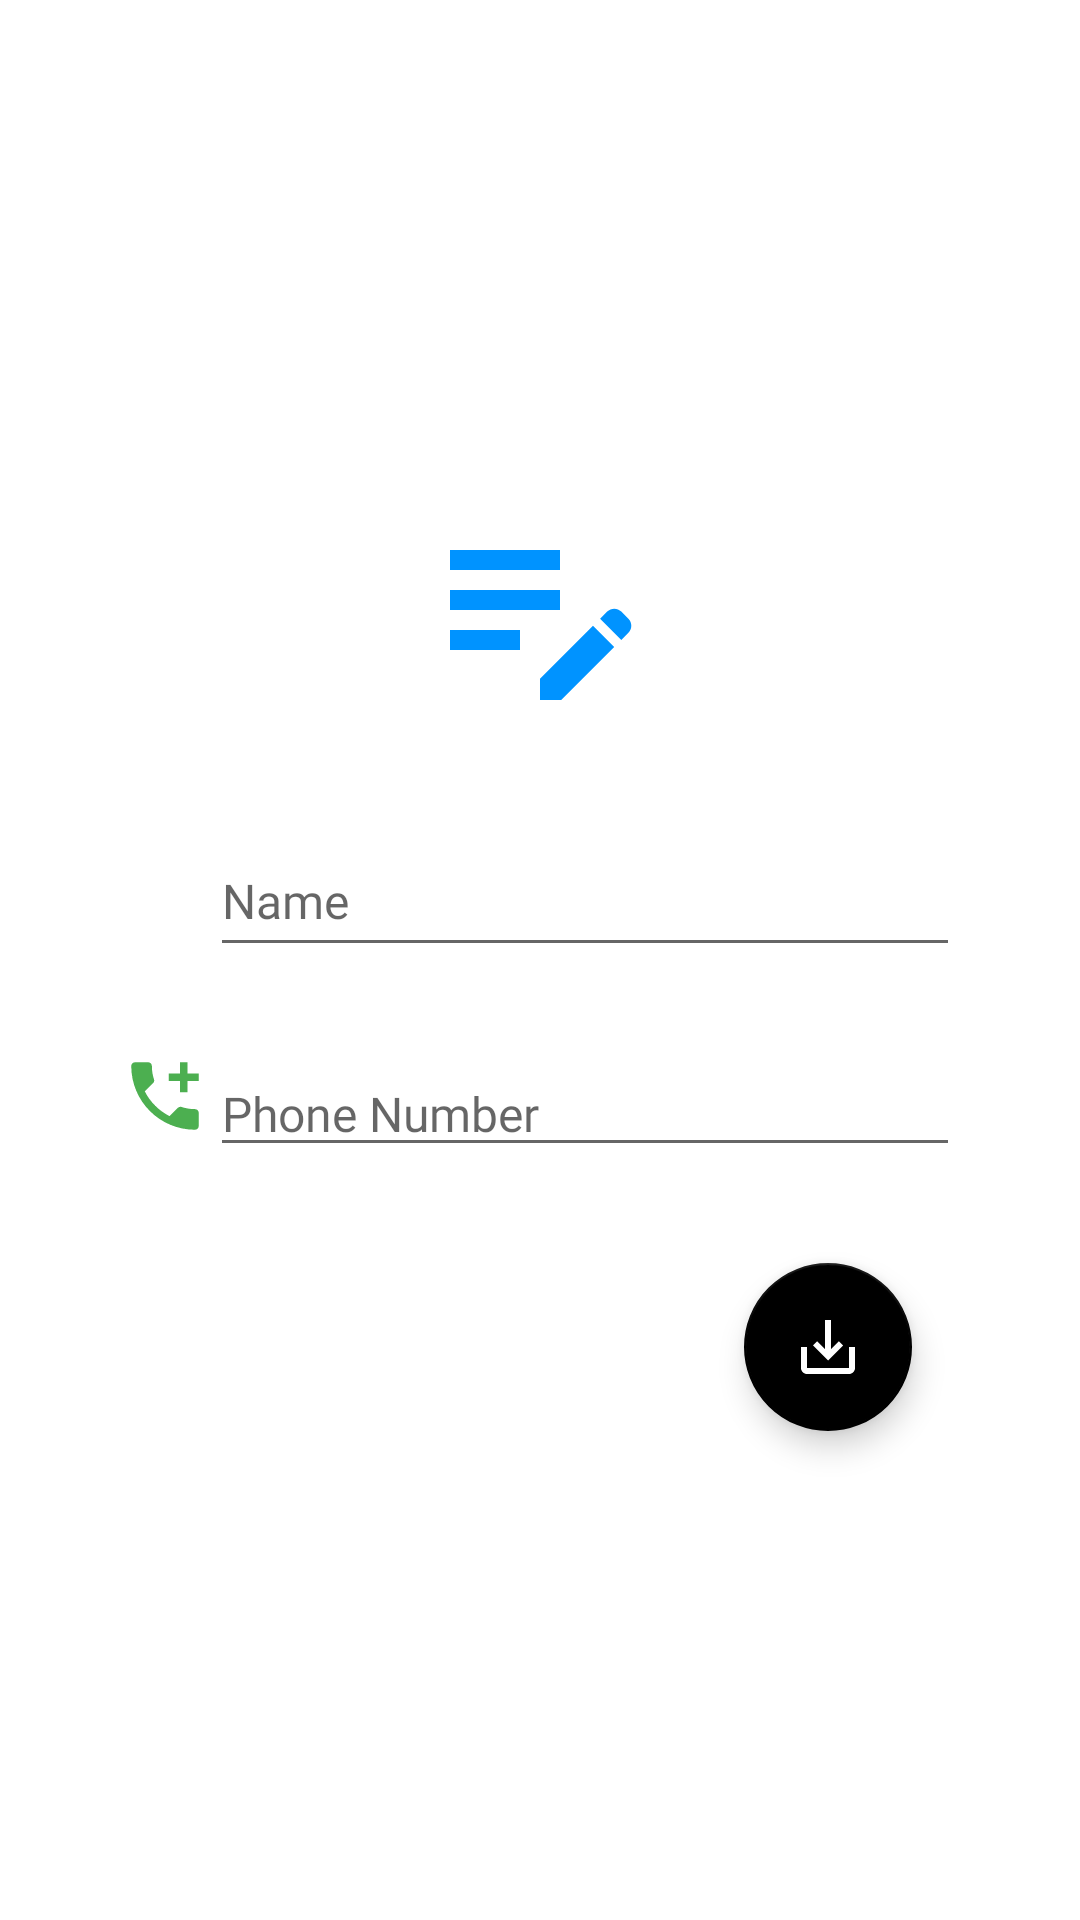

Where icons sit on this 1080px×1920px app screen, as (x1=x1, y1=y1, x2=x2, y2=y2):
add call: (x1=131, y1=1062, x2=199, y2=1130)
edit note: (x1=450, y1=550, x2=632, y2=700)
save: (x1=744, y1=1263, x2=912, y2=1431)
